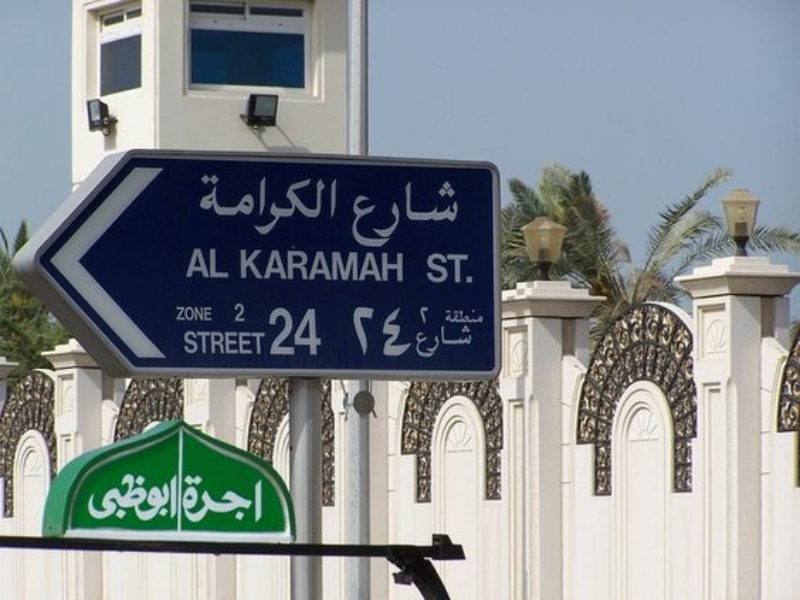text: (369, 176, 384, 247), (385, 176, 400, 247), (401, 176, 416, 247), (417, 176, 432, 247), (433, 176, 448, 247), (354, 176, 368, 247), (209, 175, 224, 236), (225, 175, 240, 236), (241, 175, 256, 236), (257, 175, 272, 236), (273, 175, 288, 236), (289, 175, 304, 236), (305, 175, 320, 236), (321, 175, 336, 236), (369, 305, 384, 357), (385, 305, 400, 357), (193, 474, 208, 524), (209, 474, 224, 524), (225, 474, 240, 524), (241, 474, 256, 524), (273, 308, 288, 357), (289, 308, 304, 357), (305, 308, 320, 357), (354, 305, 368, 357), (97, 473, 112, 521), (113, 473, 128, 521), (129, 473, 144, 521), (145, 473, 160, 521), (161, 473, 176, 521), (449, 176, 459, 247), (401, 305, 413, 357), (241, 247, 256, 281), (257, 247, 272, 281), (273, 247, 288, 281), (289, 247, 304, 281), (305, 247, 320, 281), (321, 247, 336, 281), (337, 247, 352, 281), (353, 247, 368, 281), (369, 247, 384, 281), (385, 247, 400, 281), (417, 325, 432, 358), (433, 325, 448, 358), (449, 325, 464, 358), (433, 253, 448, 286), (449, 253, 464, 286), (193, 249, 208, 279), (209, 249, 224, 279), (183, 474, 192, 524), (201, 175, 208, 236), (88, 473, 96, 521), (193, 331, 208, 355), (209, 331, 224, 355), (225, 331, 240, 355), (241, 331, 256, 355), (257, 474, 263, 524), (418, 305, 432, 325), (465, 325, 473, 358), (465, 253, 473, 286), (177, 304, 192, 321), (193, 304, 208, 321), (449, 308, 464, 324), (465, 308, 480, 324), (401, 247, 408, 281), (183, 331, 192, 355), (257, 331, 266, 355), (426, 253, 432, 286), (225, 249, 230, 279), (269, 308, 272, 357), (233, 304, 240, 322), (241, 304, 247, 322), (177, 473, 179, 521), (209, 304, 213, 321), (444, 308, 448, 324), (337, 175, 338, 236), (321, 308, 322, 357), (481, 308, 484, 324), (239, 247, 240, 281), (175, 304, 176, 321)
